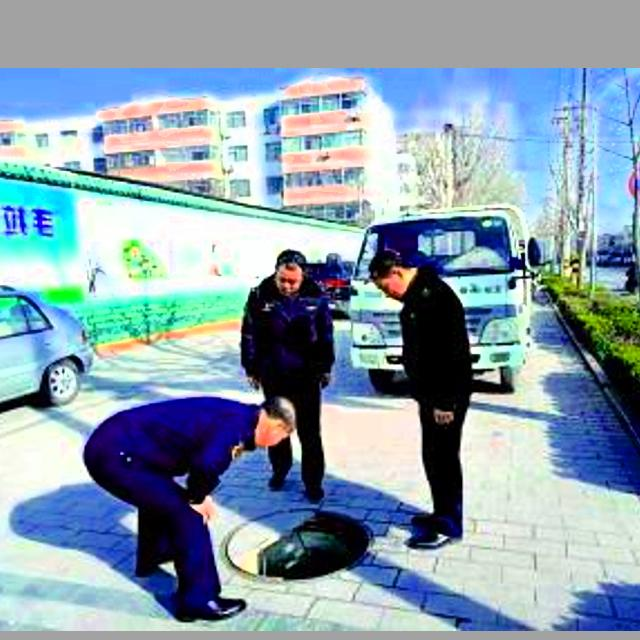broke: (204, 491, 387, 583)
